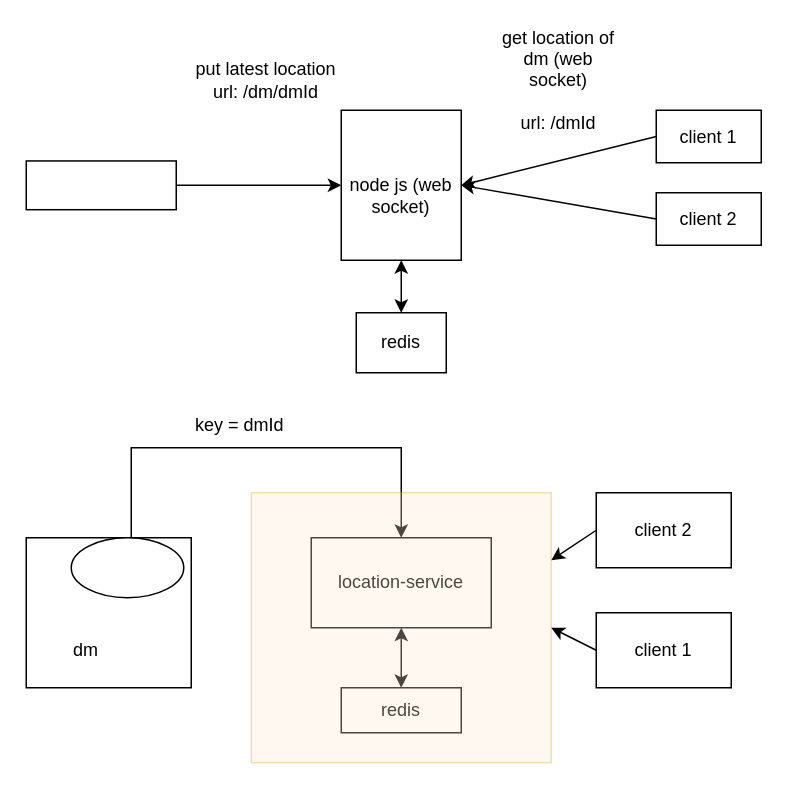
Some shapes in this 788 by 789 pixel diagram are drawn without their labels. The centre of each missing label's shape, as x and y in pixels:
Delivery Man(dm): the point at 100,184
geolocation: the point at 127,567
location server: the point at 400,627
